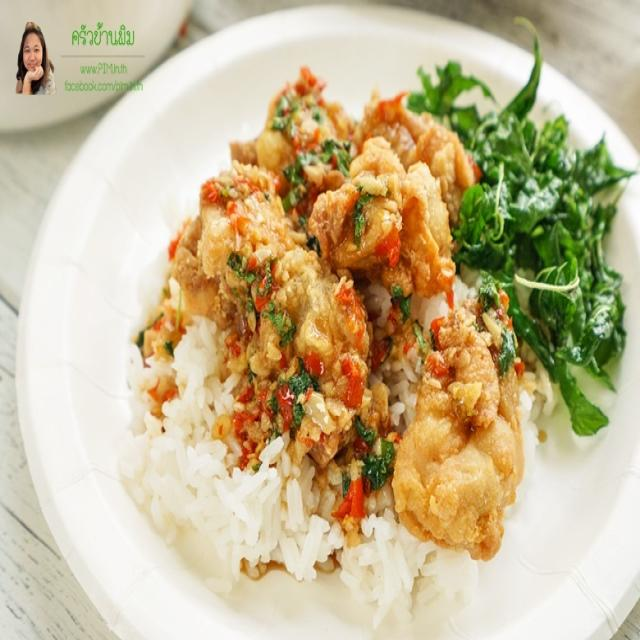Carbohydrate: (129, 216, 529, 622)
Kaow-Padkrapao: (57, 4, 640, 640)
Protein: (155, 64, 513, 562)
Vegetable: (408, 17, 624, 439)
